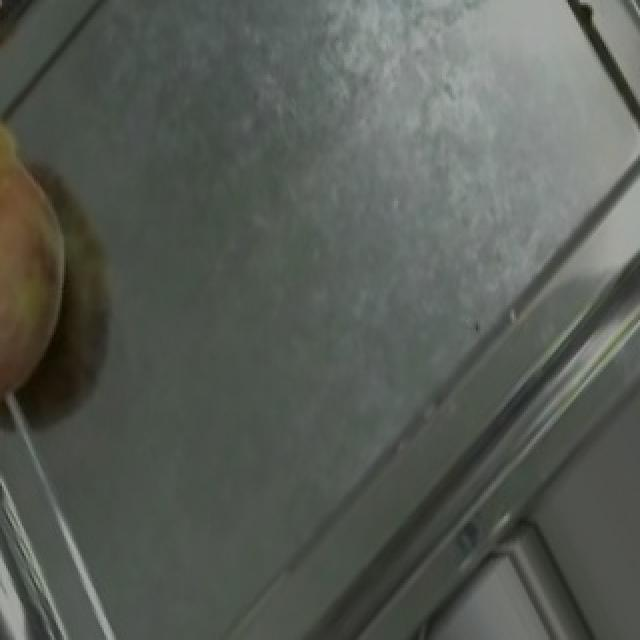Fruit: (0, 77, 112, 427)
